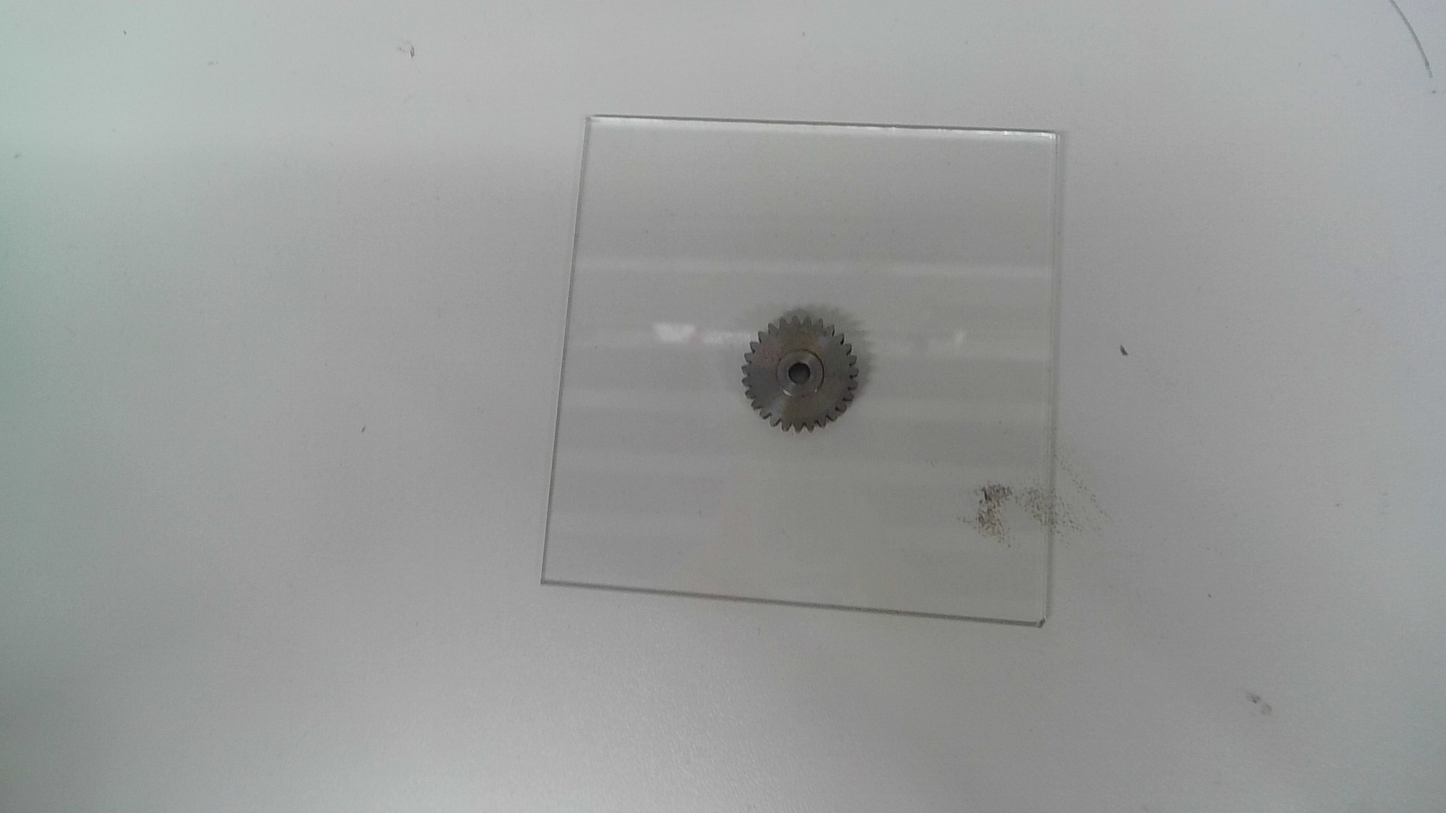gear: (739, 311, 860, 438)
